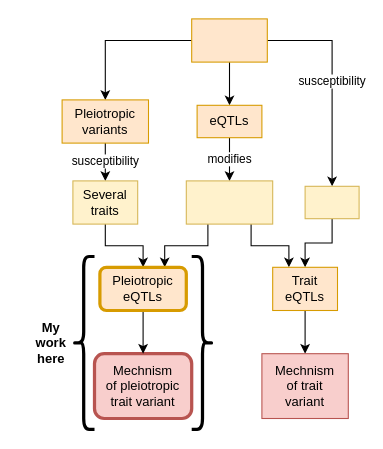
Some shapes in this 383 by 449 pixel diagram are drawn without their labels. The box of each missing label's shape, as (x1, y1, x2, y2) in pixels:
Gene expression: (185, 180, 273, 224)
Genetic variants: (191, 18, 267, 62)
Trait: (304, 185, 359, 219)
